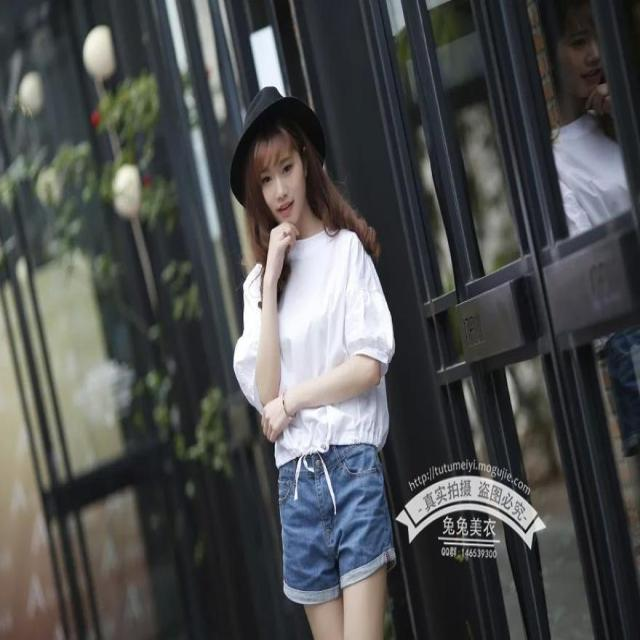short-sleeve-top: (237, 238, 416, 450)
shorts: (267, 475, 413, 595)
